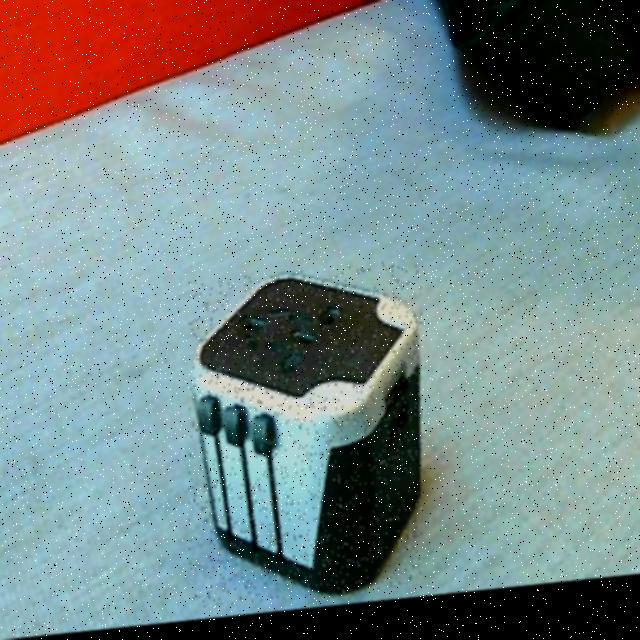adapter: (189, 267, 422, 613)
